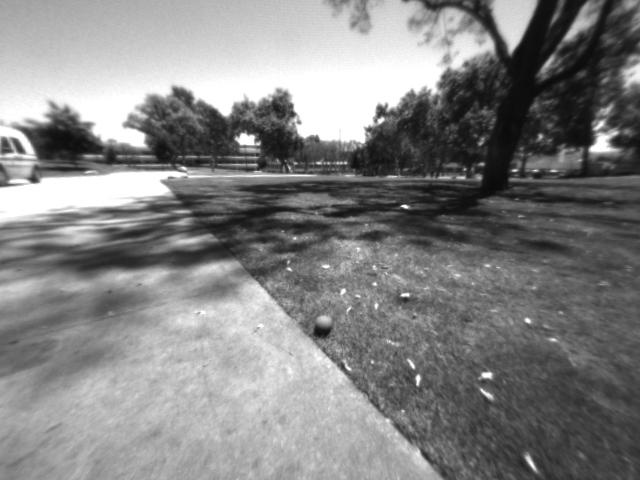dogtoy: (305, 306, 342, 340)
